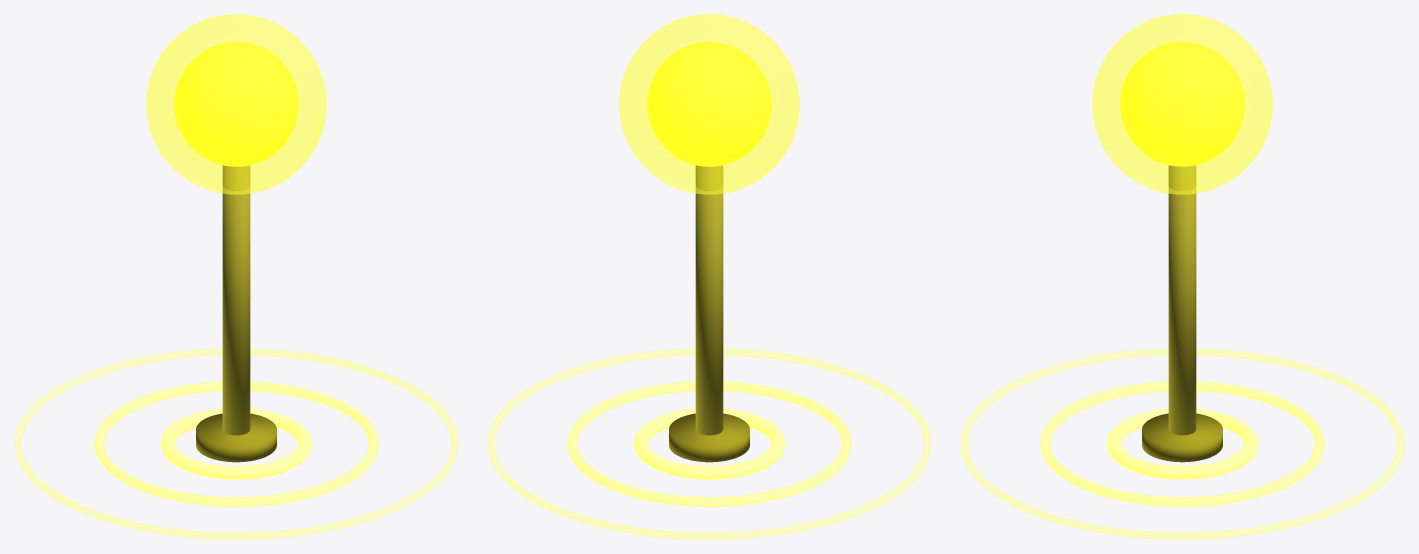
Rendered from map-pin-yellow.glb.
3 renders of one model, left to right at view 1: azimuth 30°, elevation 25°; view 2: azimuth 150°, elevation 25°; view 3: azimuth 270°, elevation 25°, orthographic.
Parts seen in each view (by area): view 1: Glow, Cap, Pulse2, Column, Pulse1, Pulse0, Base; view 2: Glow, Cap, Pulse2, Column, Pulse1, Pulse0, Base; view 3: Glow, Cap, Pulse2, Column, Pulse1, Pulse0, Base.
Boxes of the visible parts, x1,y1,x2,y2 form: Glow: (146, 14, 326, 194); Cap: (174, 42, 298, 166); Pulse2: (14, 348, 458, 539); Column: (222, 165, 250, 435); Pulse1: (94, 381, 378, 506); Pulse0: (161, 408, 311, 479); Base: (196, 413, 276, 462); Glow: (619, 14, 799, 194); Cap: (647, 42, 771, 166); Pulse2: (487, 348, 931, 539); Column: (695, 165, 723, 435); Pulse1: (567, 381, 851, 506); Pulse0: (634, 408, 784, 479); Base: (669, 413, 749, 462); Glow: (1092, 14, 1272, 194); Cap: (1120, 42, 1244, 166); Pulse2: (960, 348, 1404, 539); Column: (1168, 165, 1196, 435); Pulse1: (1040, 381, 1324, 506); Pulse0: (1107, 408, 1257, 479); Base: (1142, 413, 1222, 462).
Bounding box in the file's own units: 1.42 × 1.51 × 1.42.
